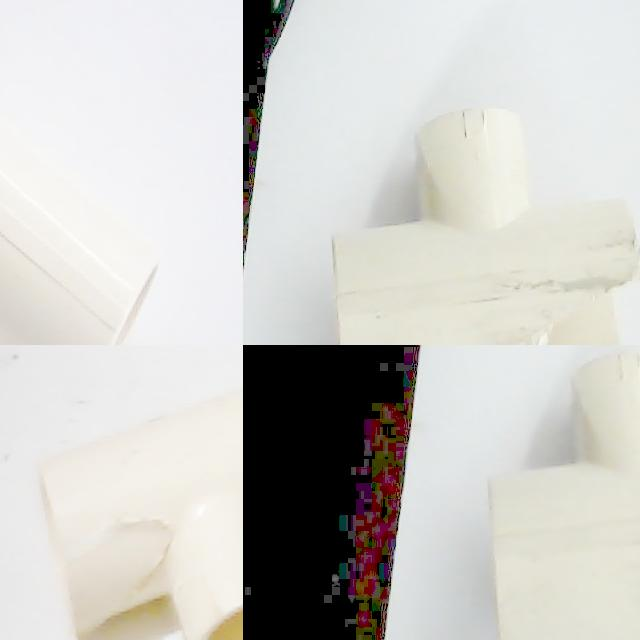Defective: (67, 499, 180, 638), (511, 284, 640, 345)
T Joint: (330, 108, 640, 345), (37, 388, 243, 640), (488, 350, 640, 640), (0, 111, 163, 345)
